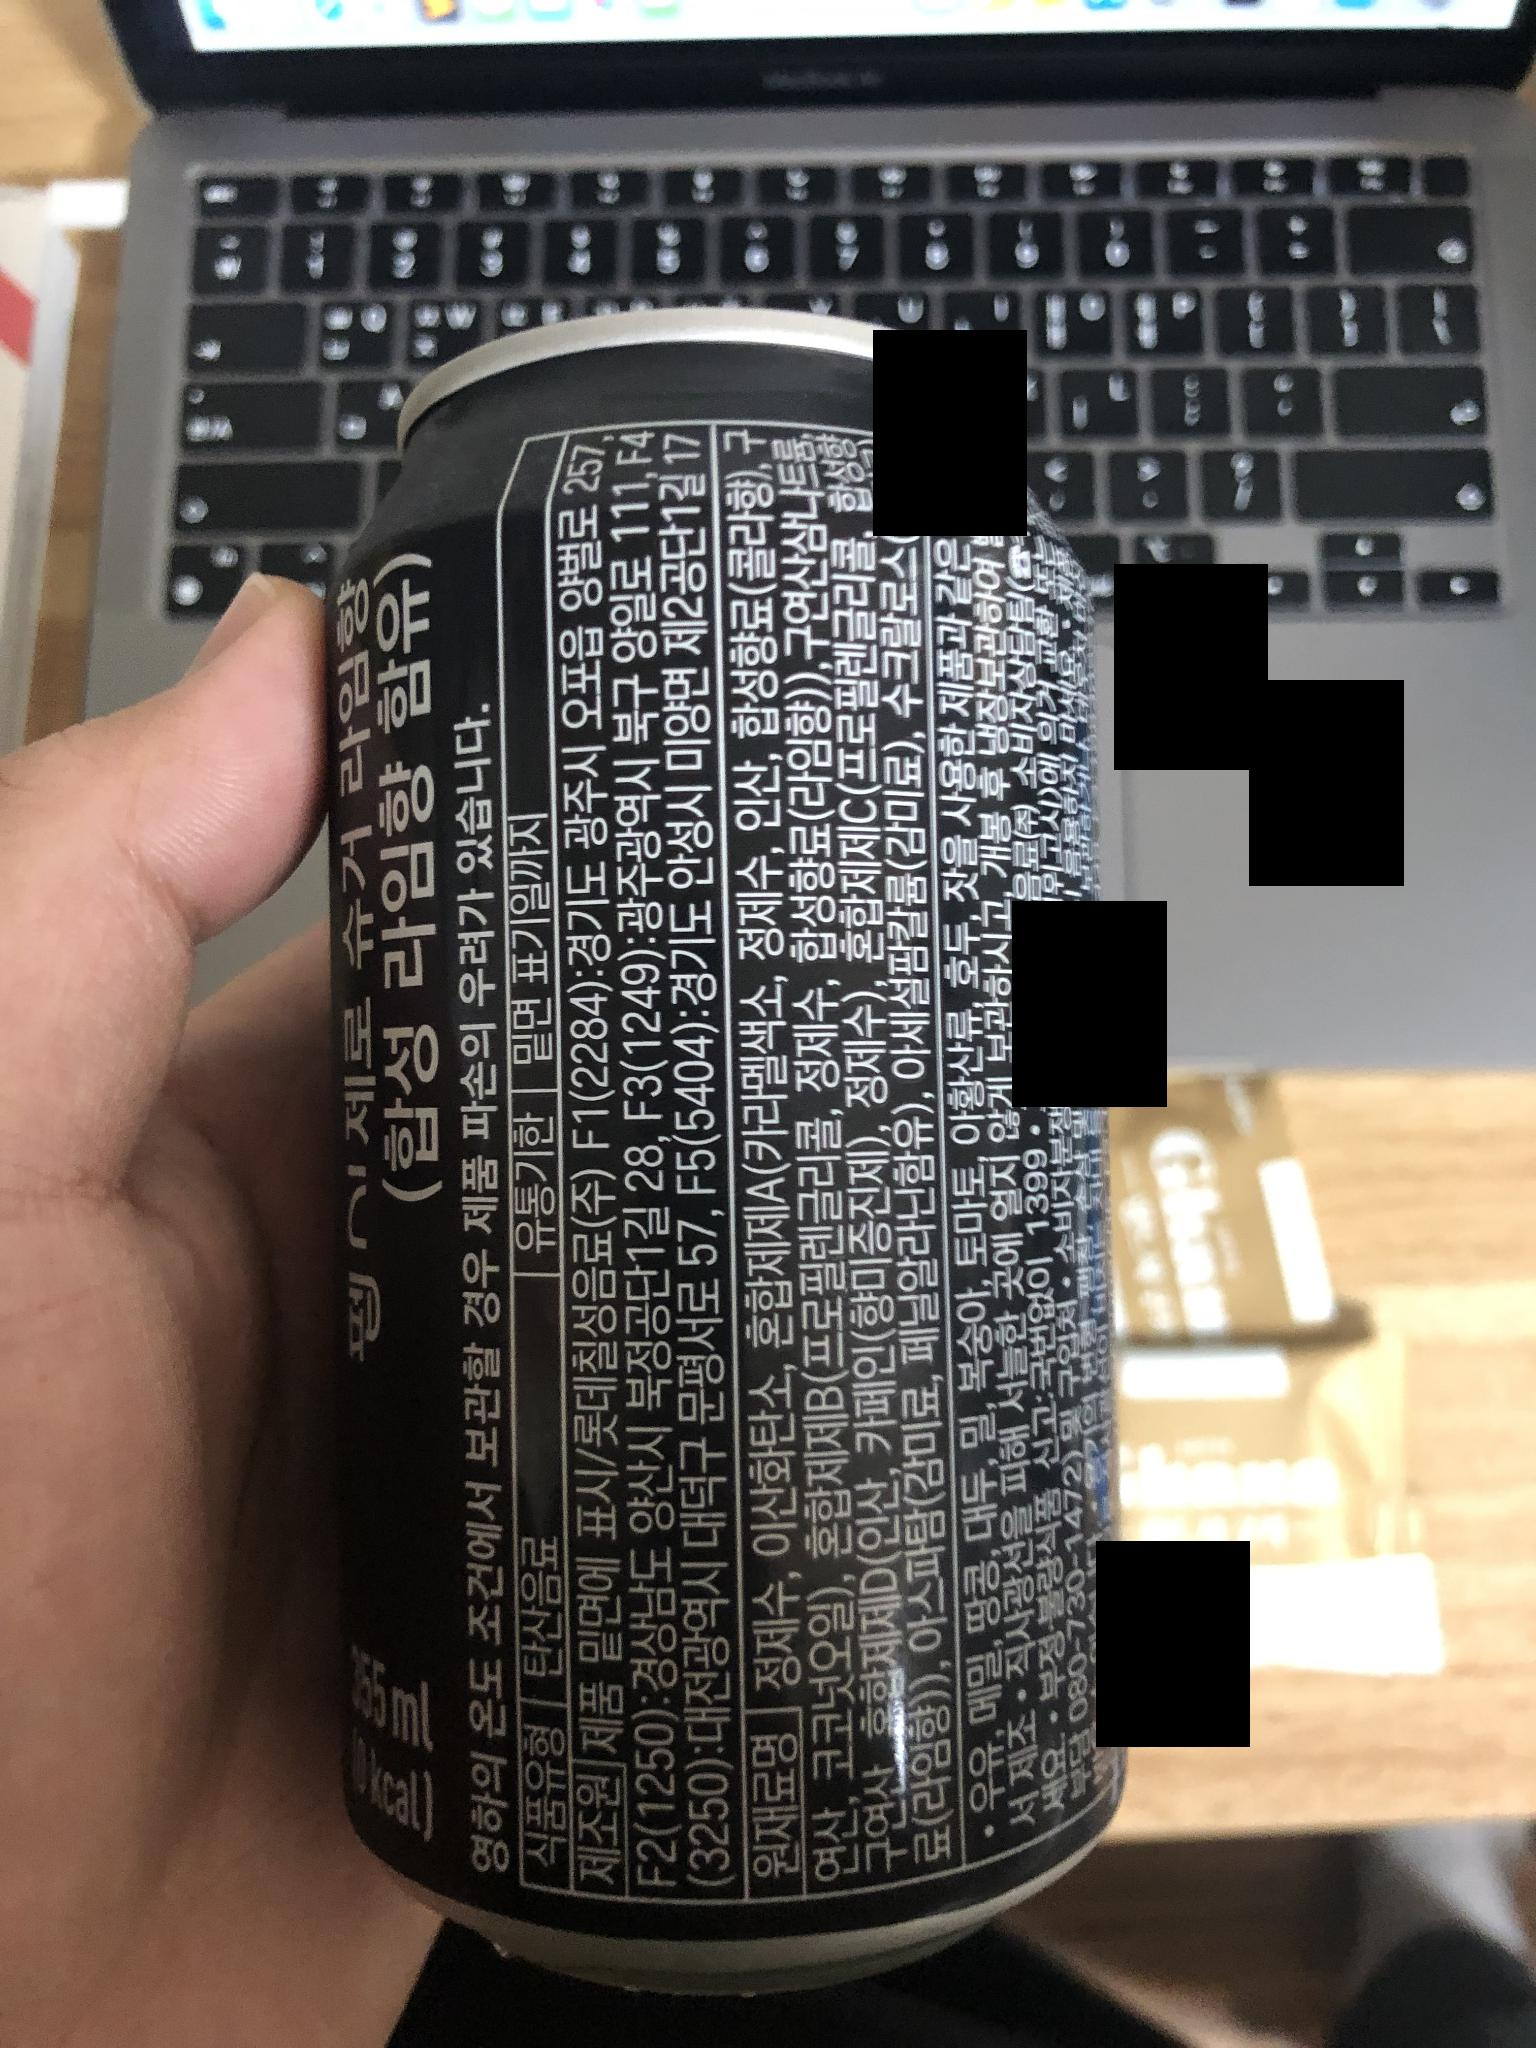pepsi_zero: (328, 329, 1141, 1987)
